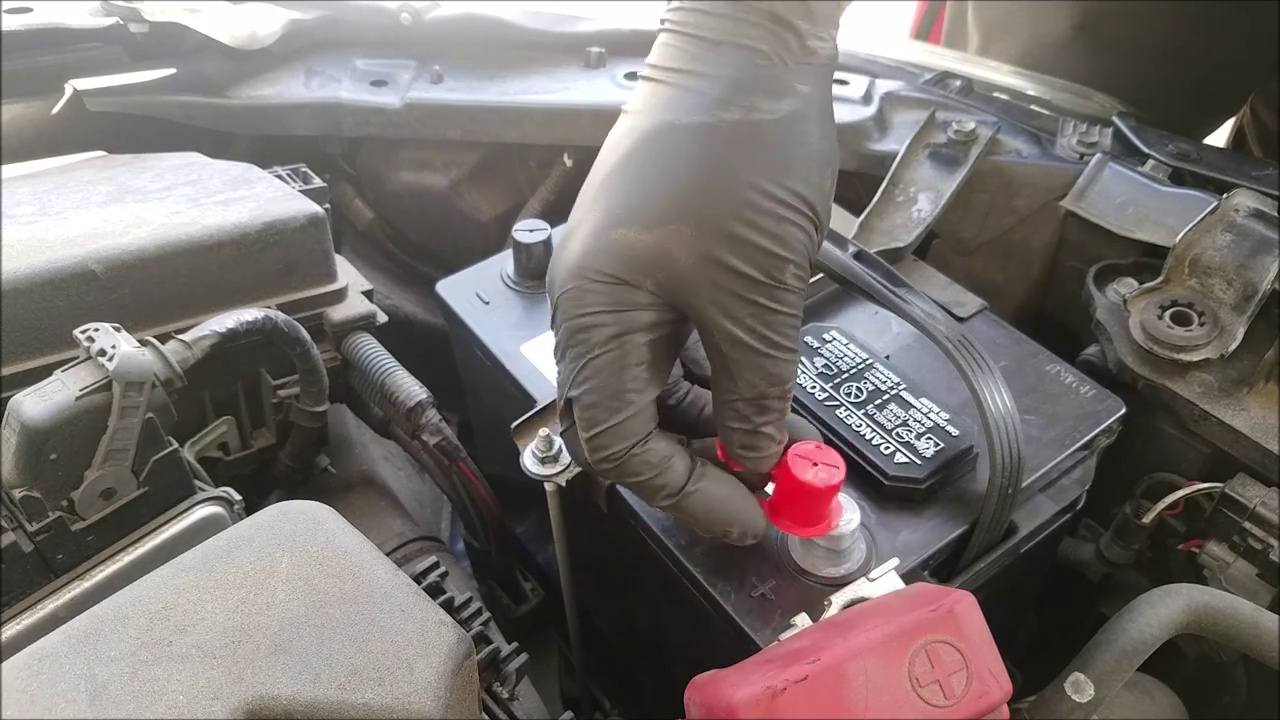battery: (467, 204, 1128, 629)
pos_disconnected: (749, 431, 980, 720)
pos_touched: (592, 324, 932, 712)
